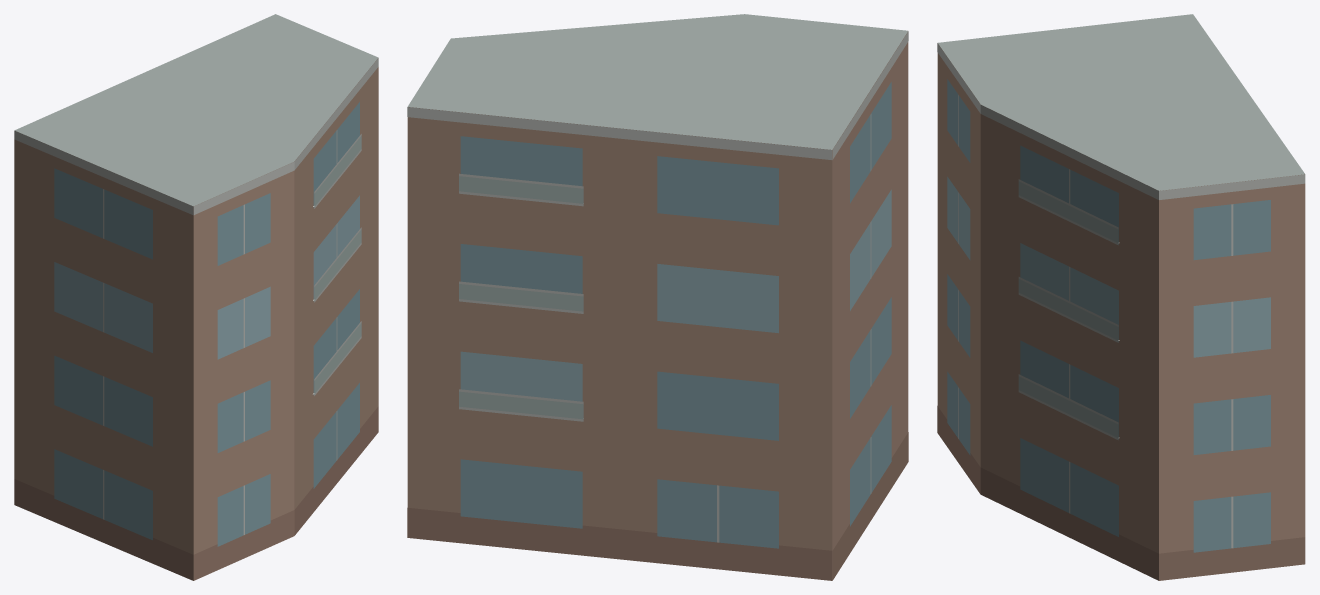
File: survey-upis-32913259.glb
3 renders of one model, left to right at view 1: azimuth 30°, elevation 25°; view 2: azimuth 150°, elevation 25°; view 3: azimuth 270°, elevation 25°, orthographic. The views are drawn at different scales.
Parts seen in each view (by area): view 1: survey-upis-32913259.tmp; view 2: survey-upis-32913259.tmp; view 3: survey-upis-32913259.tmp.
Boxes of the visible parts, box(x1,y1,x2,y2) form: survey-upis-32913259.tmp: box(14, 14, 378, 580); survey-upis-32913259.tmp: box(407, 14, 908, 580); survey-upis-32913259.tmp: box(937, 14, 1305, 580).
Bounding box in the file's own units: 9.93 × 10.2 × 8.73.
